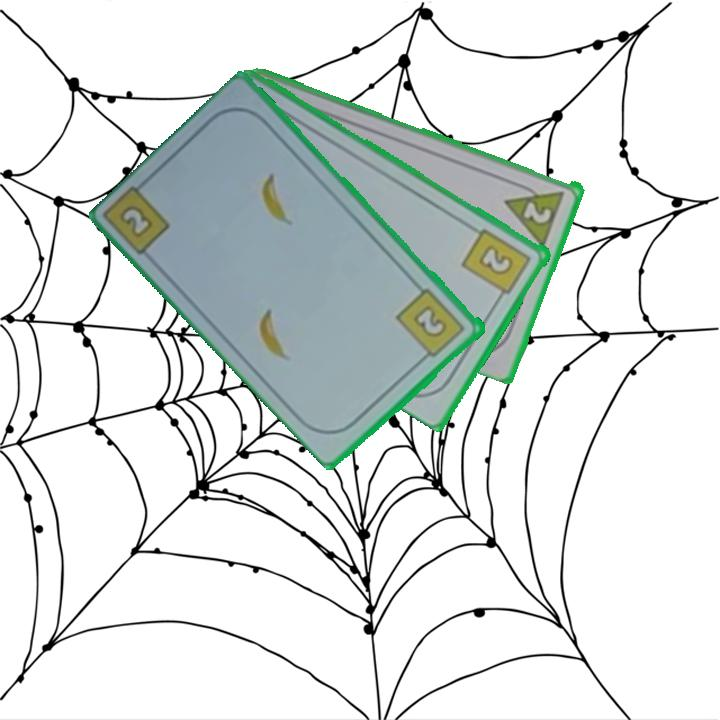2b: (459, 224, 535, 304), (393, 285, 469, 365), (115, 201, 157, 241)
2p: (520, 197, 555, 227)
